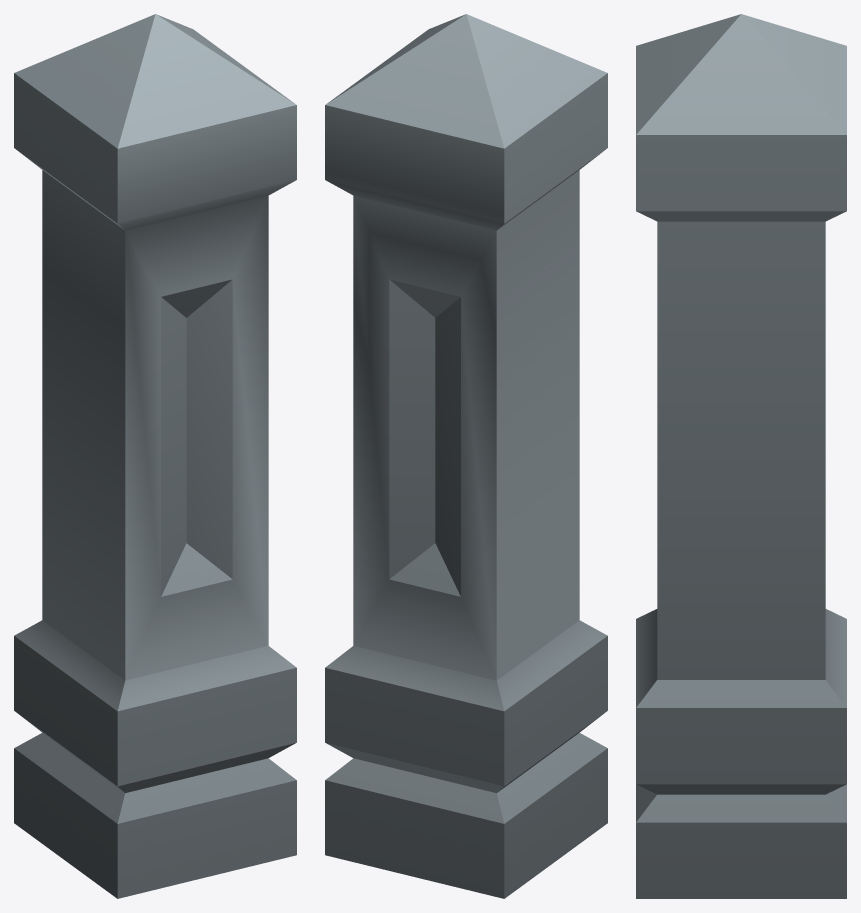
The model's file is pillar.glb.
3 renders of one model, left to right at view 1: azimuth 30°, elevation 25°; view 2: azimuth 150°, elevation 25°; view 3: azimuth 270°, elevation 25°, orthographic.
Parts seen in each view (by area): view 1: pillar; view 2: pillar; view 3: pillar.
Part boxes in pixels (<box>): pillar: <box>14,14,296,898</box>; pillar: <box>325,14,607,898</box>; pillar: <box>636,14,846,898</box>.
Size of the model in its own units: 1 by 4.4 by 1.
1 material, 1 textured.
